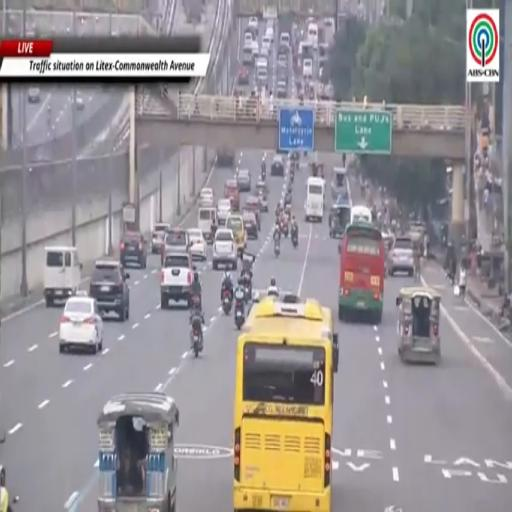bus: (233, 298, 338, 511), (339, 222, 385, 324), (351, 205, 372, 222)
car: (59, 295, 103, 354), (89, 260, 129, 321), (161, 252, 193, 309), (387, 236, 414, 276), (161, 228, 190, 263), (213, 229, 238, 269), (120, 232, 146, 268), (188, 229, 206, 261), (151, 223, 170, 253), (244, 197, 260, 230), (224, 179, 239, 211), (243, 211, 258, 239), (217, 199, 231, 226), (256, 181, 268, 212), (217, 148, 235, 167), (237, 169, 251, 191), (199, 188, 214, 206), (271, 155, 284, 175), (258, 190, 268, 212), (238, 67, 250, 85), (276, 68, 288, 86), (276, 81, 288, 99), (27, 87, 40, 103), (260, 46, 269, 66), (75, 93, 84, 110), (277, 54, 287, 68), (248, 16, 258, 30), (252, 41, 259, 58)
jeepney: (98, 393, 179, 511), (396, 286, 440, 363), (329, 196, 350, 237), (408, 221, 426, 253), (331, 167, 348, 200)
motorcycle: (191, 320, 202, 357), (235, 298, 244, 329), (222, 290, 232, 315), (244, 277, 251, 301), (291, 229, 297, 248), (274, 239, 280, 257), (282, 221, 288, 237), (290, 167, 294, 183), (261, 169, 266, 181)
